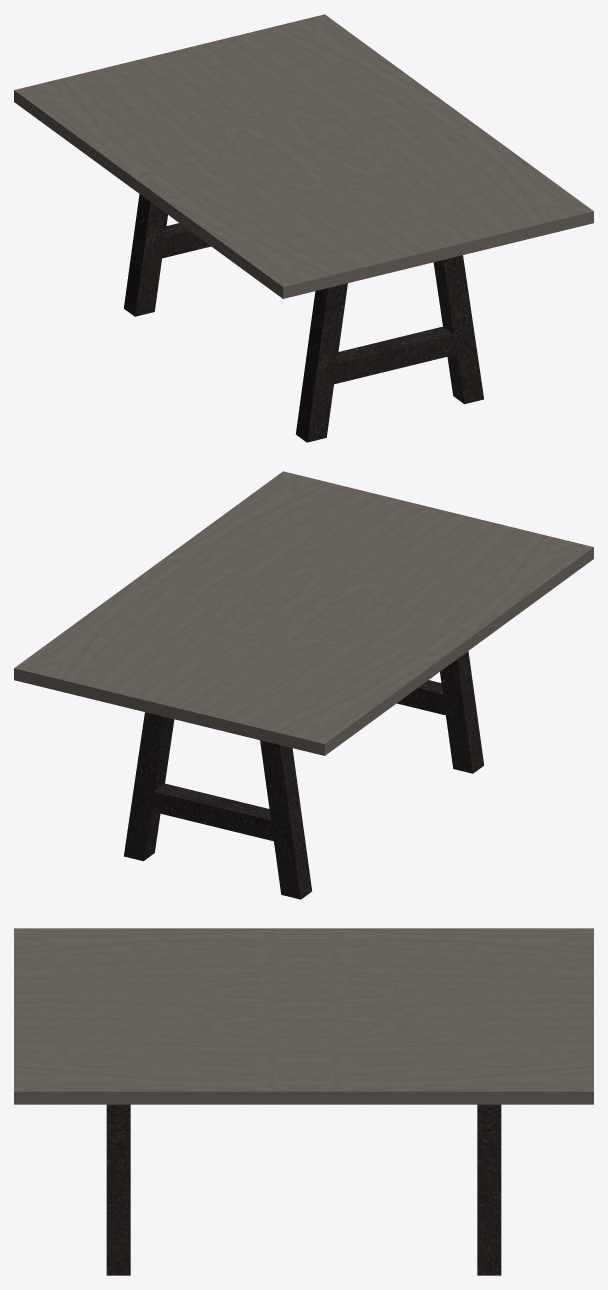
The model's file is Furniture_Tables_Meyer-Wells_Briggs-Table-Premium-Plywood.fbx.
3 views of the same model, one above another, from view 1: azimuth 30°, elevation 25°; view 2: azimuth 150°, elevation 25°; view 3: azimuth 270°, elevation 25° (orthographic). The views are drawn at different scales.
Parts seen in each view (by area): view 1: L_97beb020_b3ce_46b7_995d_104b0de7711a_C1_I1, L_f32ecc78_3eca_4775_aad8_f335c873a18d_C1_I2, L_f32ecc78_3eca_4775_aad8_f335c873a18d_C1_I3; view 2: L_97beb020_b3ce_46b7_995d_104b0de7711a_C1_I1, L_f32ecc78_3eca_4775_aad8_f335c873a18d_C1_I3, L_f32ecc78_3eca_4775_aad8_f335c873a18d_C1_I2; view 3: L_97beb020_b3ce_46b7_995d_104b0de7711a_C1_I1, L_f32ecc78_3eca_4775_aad8_f335c873a18d_C1_I2, L_f32ecc78_3eca_4775_aad8_f335c873a18d_C1_I3.
Boxes of the visible parts, x1,y1,x2,y2 form: L_97beb020_b3ce_46b7_995d_104b0de7711a_C1_I1: [14, 14, 593, 298]; L_f32ecc78_3eca_4775_aad8_f335c873a18d_C1_I2: [295, 255, 483, 442]; L_f32ecc78_3eca_4775_aad8_f335c873a18d_C1_I3: [124, 194, 210, 316]; L_97beb020_b3ce_46b7_995d_104b0de7711a_C1_I1: [14, 471, 593, 755]; L_f32ecc78_3eca_4775_aad8_f335c873a18d_C1_I3: [124, 712, 312, 899]; L_f32ecc78_3eca_4775_aad8_f335c873a18d_C1_I2: [397, 651, 483, 773]; L_97beb020_b3ce_46b7_995d_104b0de7711a_C1_I1: [14, 928, 593, 1104]; L_f32ecc78_3eca_4775_aad8_f335c873a18d_C1_I2: [106, 1104, 130, 1275]; L_f32ecc78_3eca_4775_aad8_f335c873a18d_C1_I3: [477, 1104, 501, 1275].
Bounding box in the file's own units: 48 × 72 × 30.
Materials: 2 (2 with a texture image).
